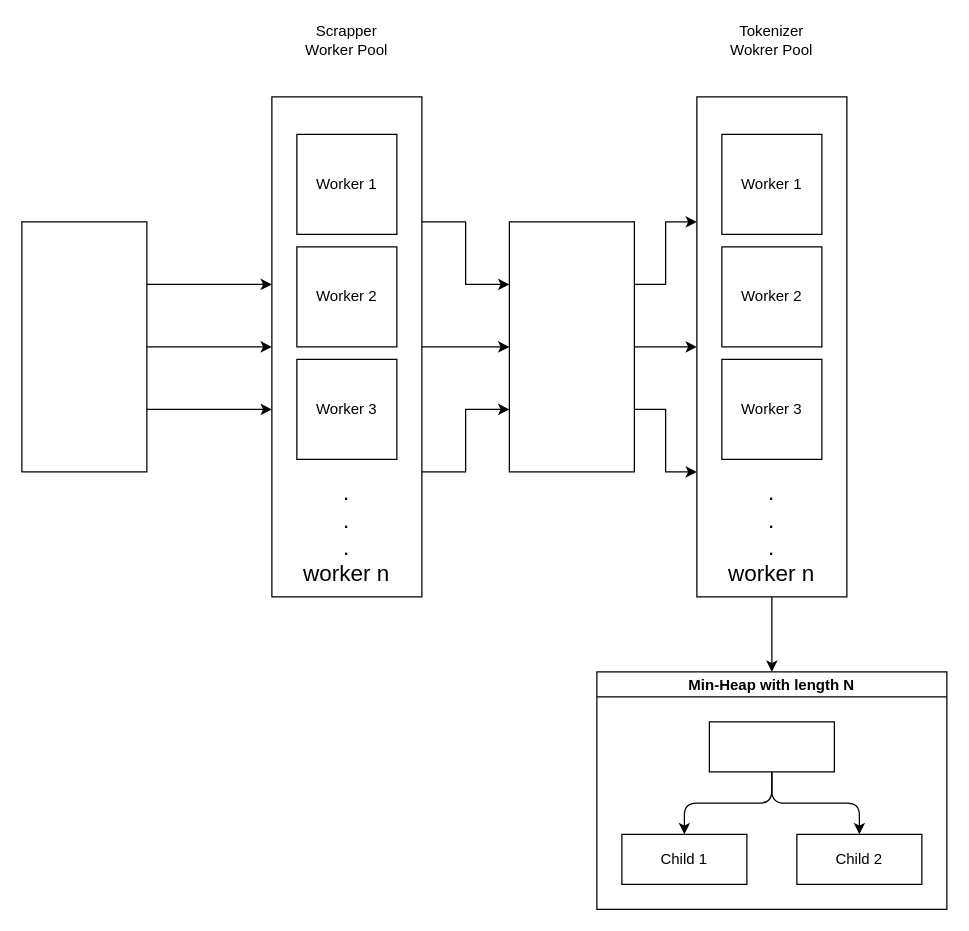
This 969x931 diagram has some shape labels left out. The shapes that lost their labels are listed below. From the top down, each one's centre as x and y in pixels, then its label:
At [84,346]: "Essay URL List".
At [571,346]: "Job Channel that pass scrapped essay".
At [771,746]: "Root".
